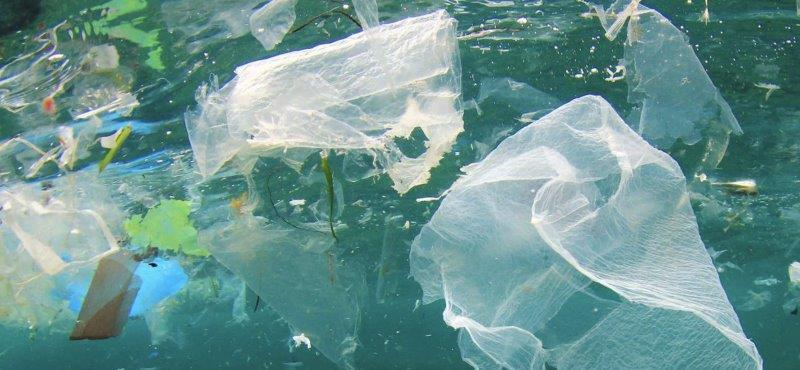plastic: (409, 92, 767, 370), (185, 6, 462, 197), (572, 0, 747, 149)
